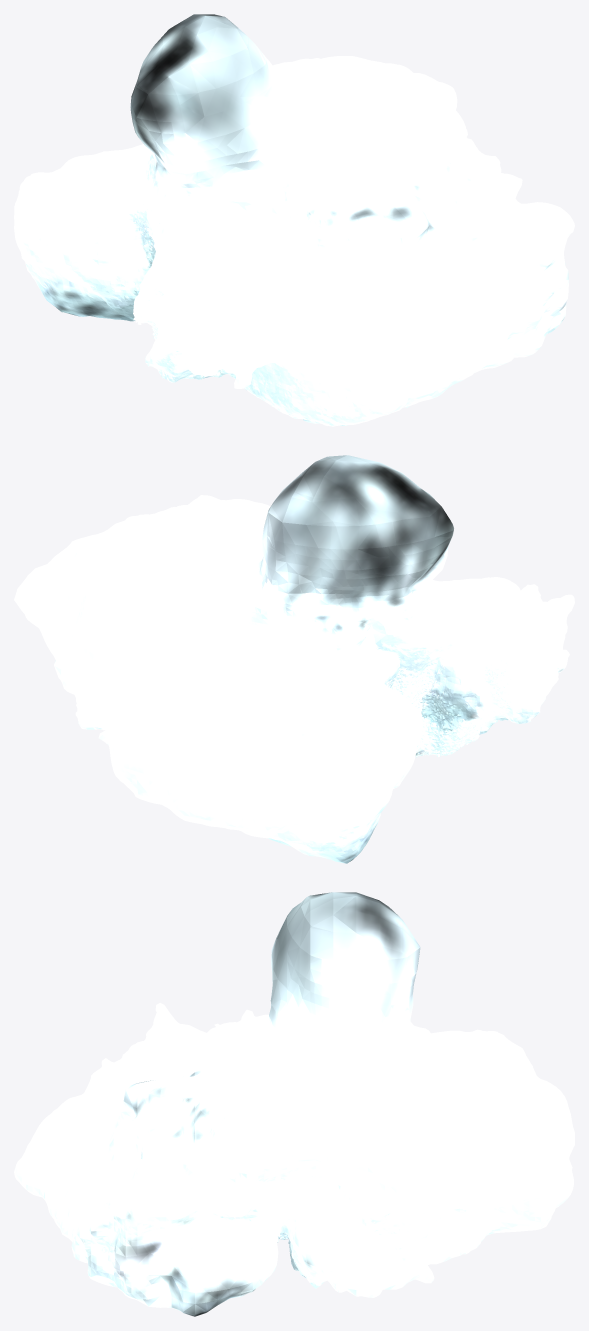
The model's file is fog_mesh.glb.
3 renders of one model, top to bottom at view 1: azimuth 30°, elevation 25°; view 2: azimuth 150°, elevation 25°; view 3: azimuth 270°, elevation 25°, orthographic. The views are drawn at different scales.
Parts seen in each view (by area): view 1: world; view 2: world; view 3: world.
Boxes of the visible parts, bbox=[...] form: world: bbox=[14, 14, 574, 426]; world: bbox=[14, 455, 574, 863]; world: bbox=[14, 892, 574, 1316].
Bounding box in the file's own units: 565 × 447 × 672.
Materials: 1 (1 with a texture image).
